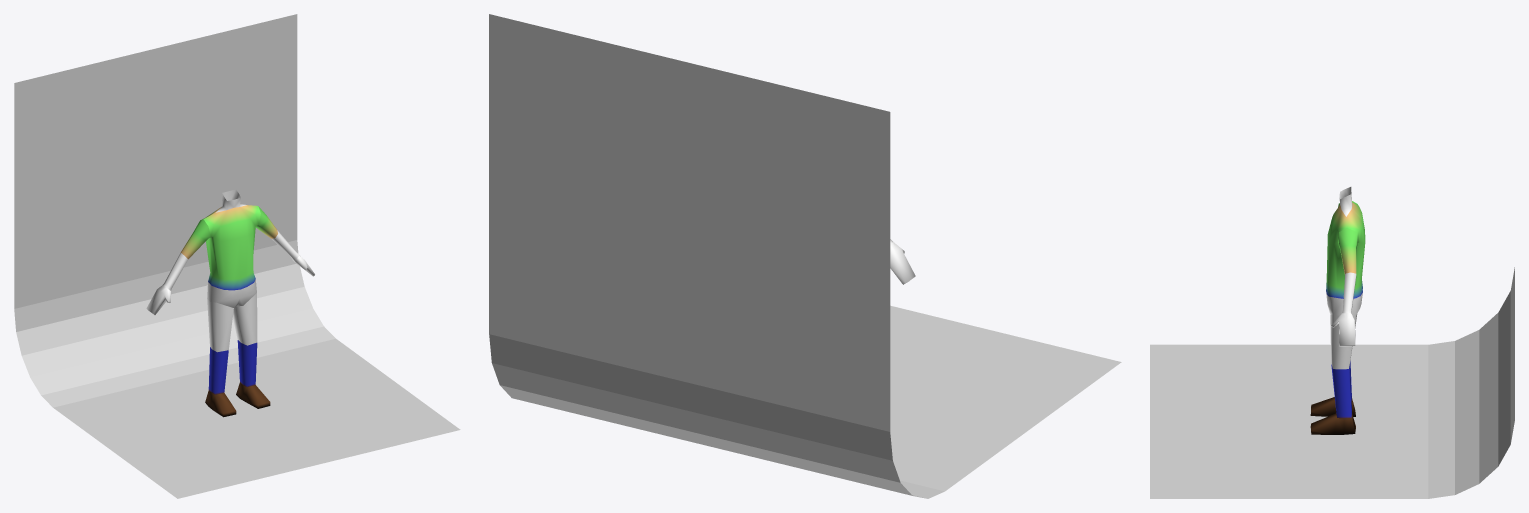
File: CSCI375 low poly mesh4.fbx
3 renders of one model, left to right at view 1: azimuth 30°, elevation 25°; view 2: azimuth 150°, elevation 25°; view 3: azimuth 270°, elevation 25°, orthographic. The views are drawn at different scales.
Parts seen in each view (by area): view 1: Plane, Torso, Leg.R, Leg.L, Pelvis, Knee.R, Knee.L, Arm.R, Foot.L, Foot.R; view 2: Plane; view 3: Plane, Torso, Knee.L, Leg.L, Foot.L, Arm.L, Hand.L, Foot.R, Pelvis, Forearm.L.
Boxes of the visible parts, box(x1,y1,x2,y2) form: Plane: box(14, 14, 460, 498); Torso: box(201, 205, 260, 290); Leg.R: box(207, 299, 233, 352); Leg.L: box(233, 293, 257, 345); Pelvis: box(207, 279, 256, 307); Knee.R: box(208, 347, 228, 394); Knee.L: box(237, 340, 257, 387); Arm.R: box(180, 219, 210, 259); Foot.L: box(236, 382, 270, 408); Foot.R: box(205, 390, 236, 417); Plane: box(489, 14, 1121, 498); Plane: box(1150, 267, 1514, 498); Torso: box(1326, 201, 1365, 298); Knee.L: box(1331, 363, 1351, 418); Leg.L: box(1330, 314, 1357, 369); Foot.L: box(1310, 413, 1355, 434); Arm.L: box(1338, 228, 1357, 273); Hand.L: box(1331, 313, 1355, 346); Foot.R: box(1310, 397, 1355, 416); Pelvis: box(1326, 291, 1362, 317); Forearm.L: box(1342, 272, 1356, 313).
Size of the model in its own units: 2000 by 2000 by 2000.
